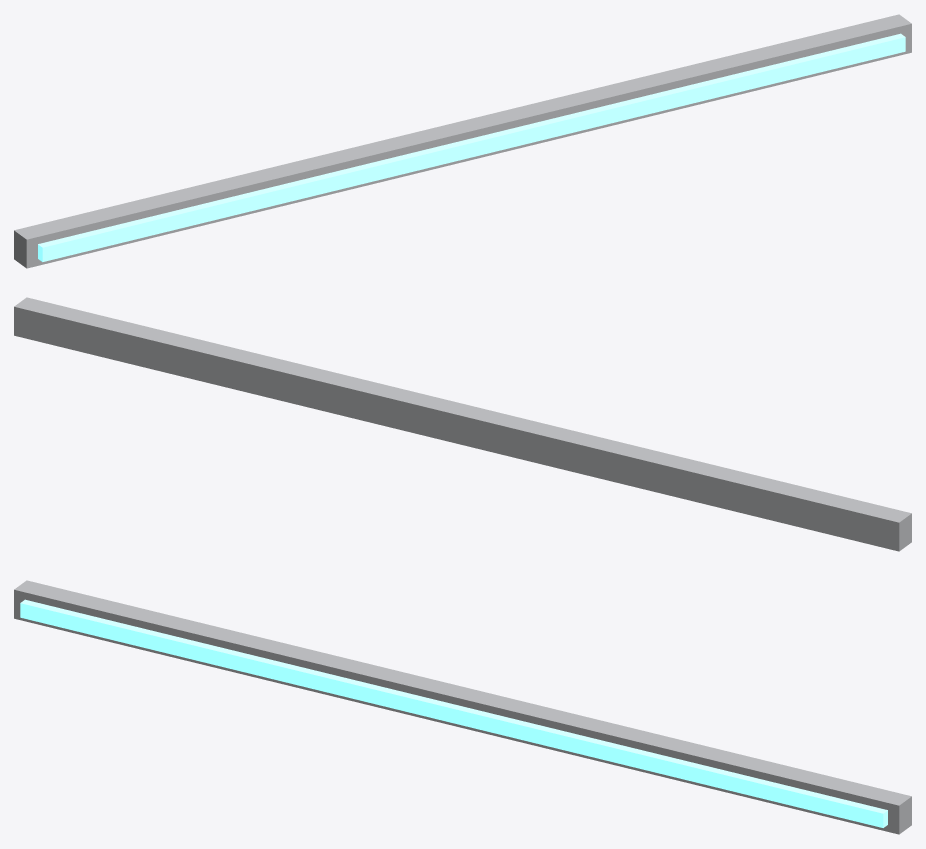
File: led_strip.glb
3 views of the same model, one above another, from view 1: azimuth 30°, elevation 25°; view 2: azimuth 150°, elevation 25°; view 3: azimuth 330°, elevation 25° (orthographic).
Parts seen in each view (by area): view 1: led_strip; view 2: led_strip; view 3: led_strip.
Boxes of the visible parts, left/top/right/bottom form: led_strip: left=14, top=14, right=911, bottom=268; led_strip: left=14, top=297, right=911, bottom=551; led_strip: left=14, top=580, right=911, bottom=834.
Bounding box in the file's own units: 1.6 × 0.05 × 0.055.
